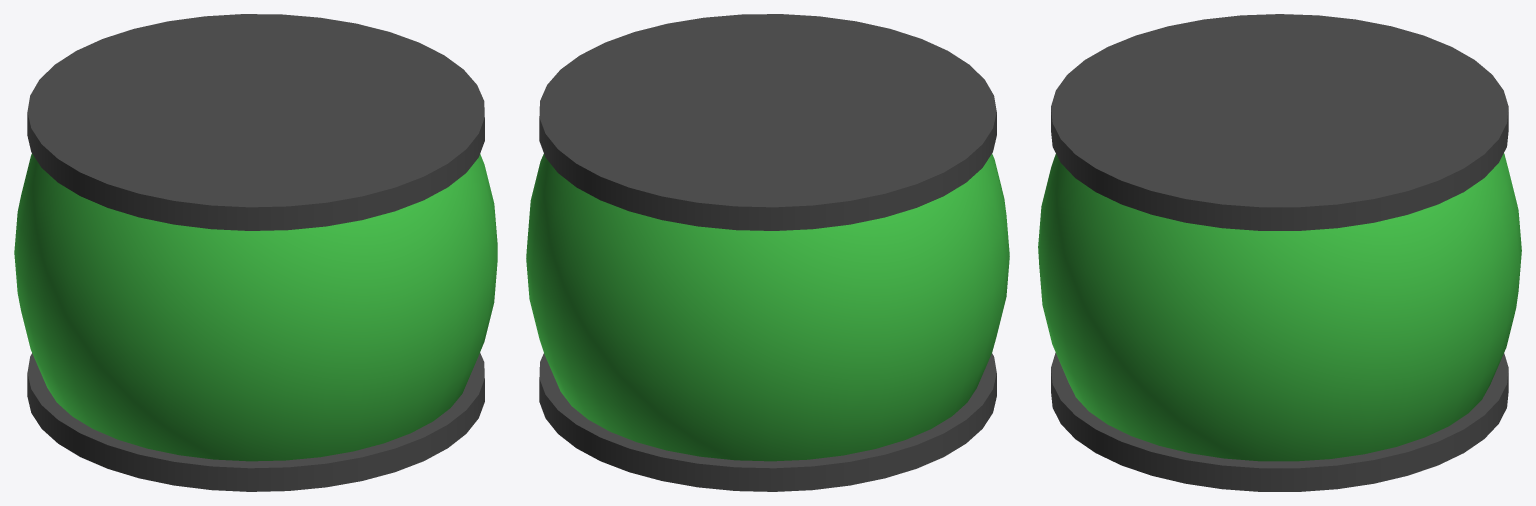
The model's file is mecanum_simple.dae.
The picture shows the model from 3 angles, left to right: view 1: azimuth 30°, elevation 25°; view 2: azimuth 150°, elevation 25°; view 3: azimuth 270°, elevation 25°; orthographic projection.
Parts seen in each view (by area): view 1: 66a50328360885226a256b79 (×2); view 2: 66a50328360885226a256b79 (×2); view 3: 66a50328360885226a256b79 (×2).
Part boxes in pixels (x1,y1,x2,y2): 66a50328360885226a256b79 (×2): [14, 14, 497, 491]; 66a50328360885226a256b79 (×2): [526, 14, 1009, 491]; 66a50328360885226a256b79 (×2): [1038, 14, 1521, 491].
Size of the model in its own units: 0.037 by 0.037 by 0.024.
